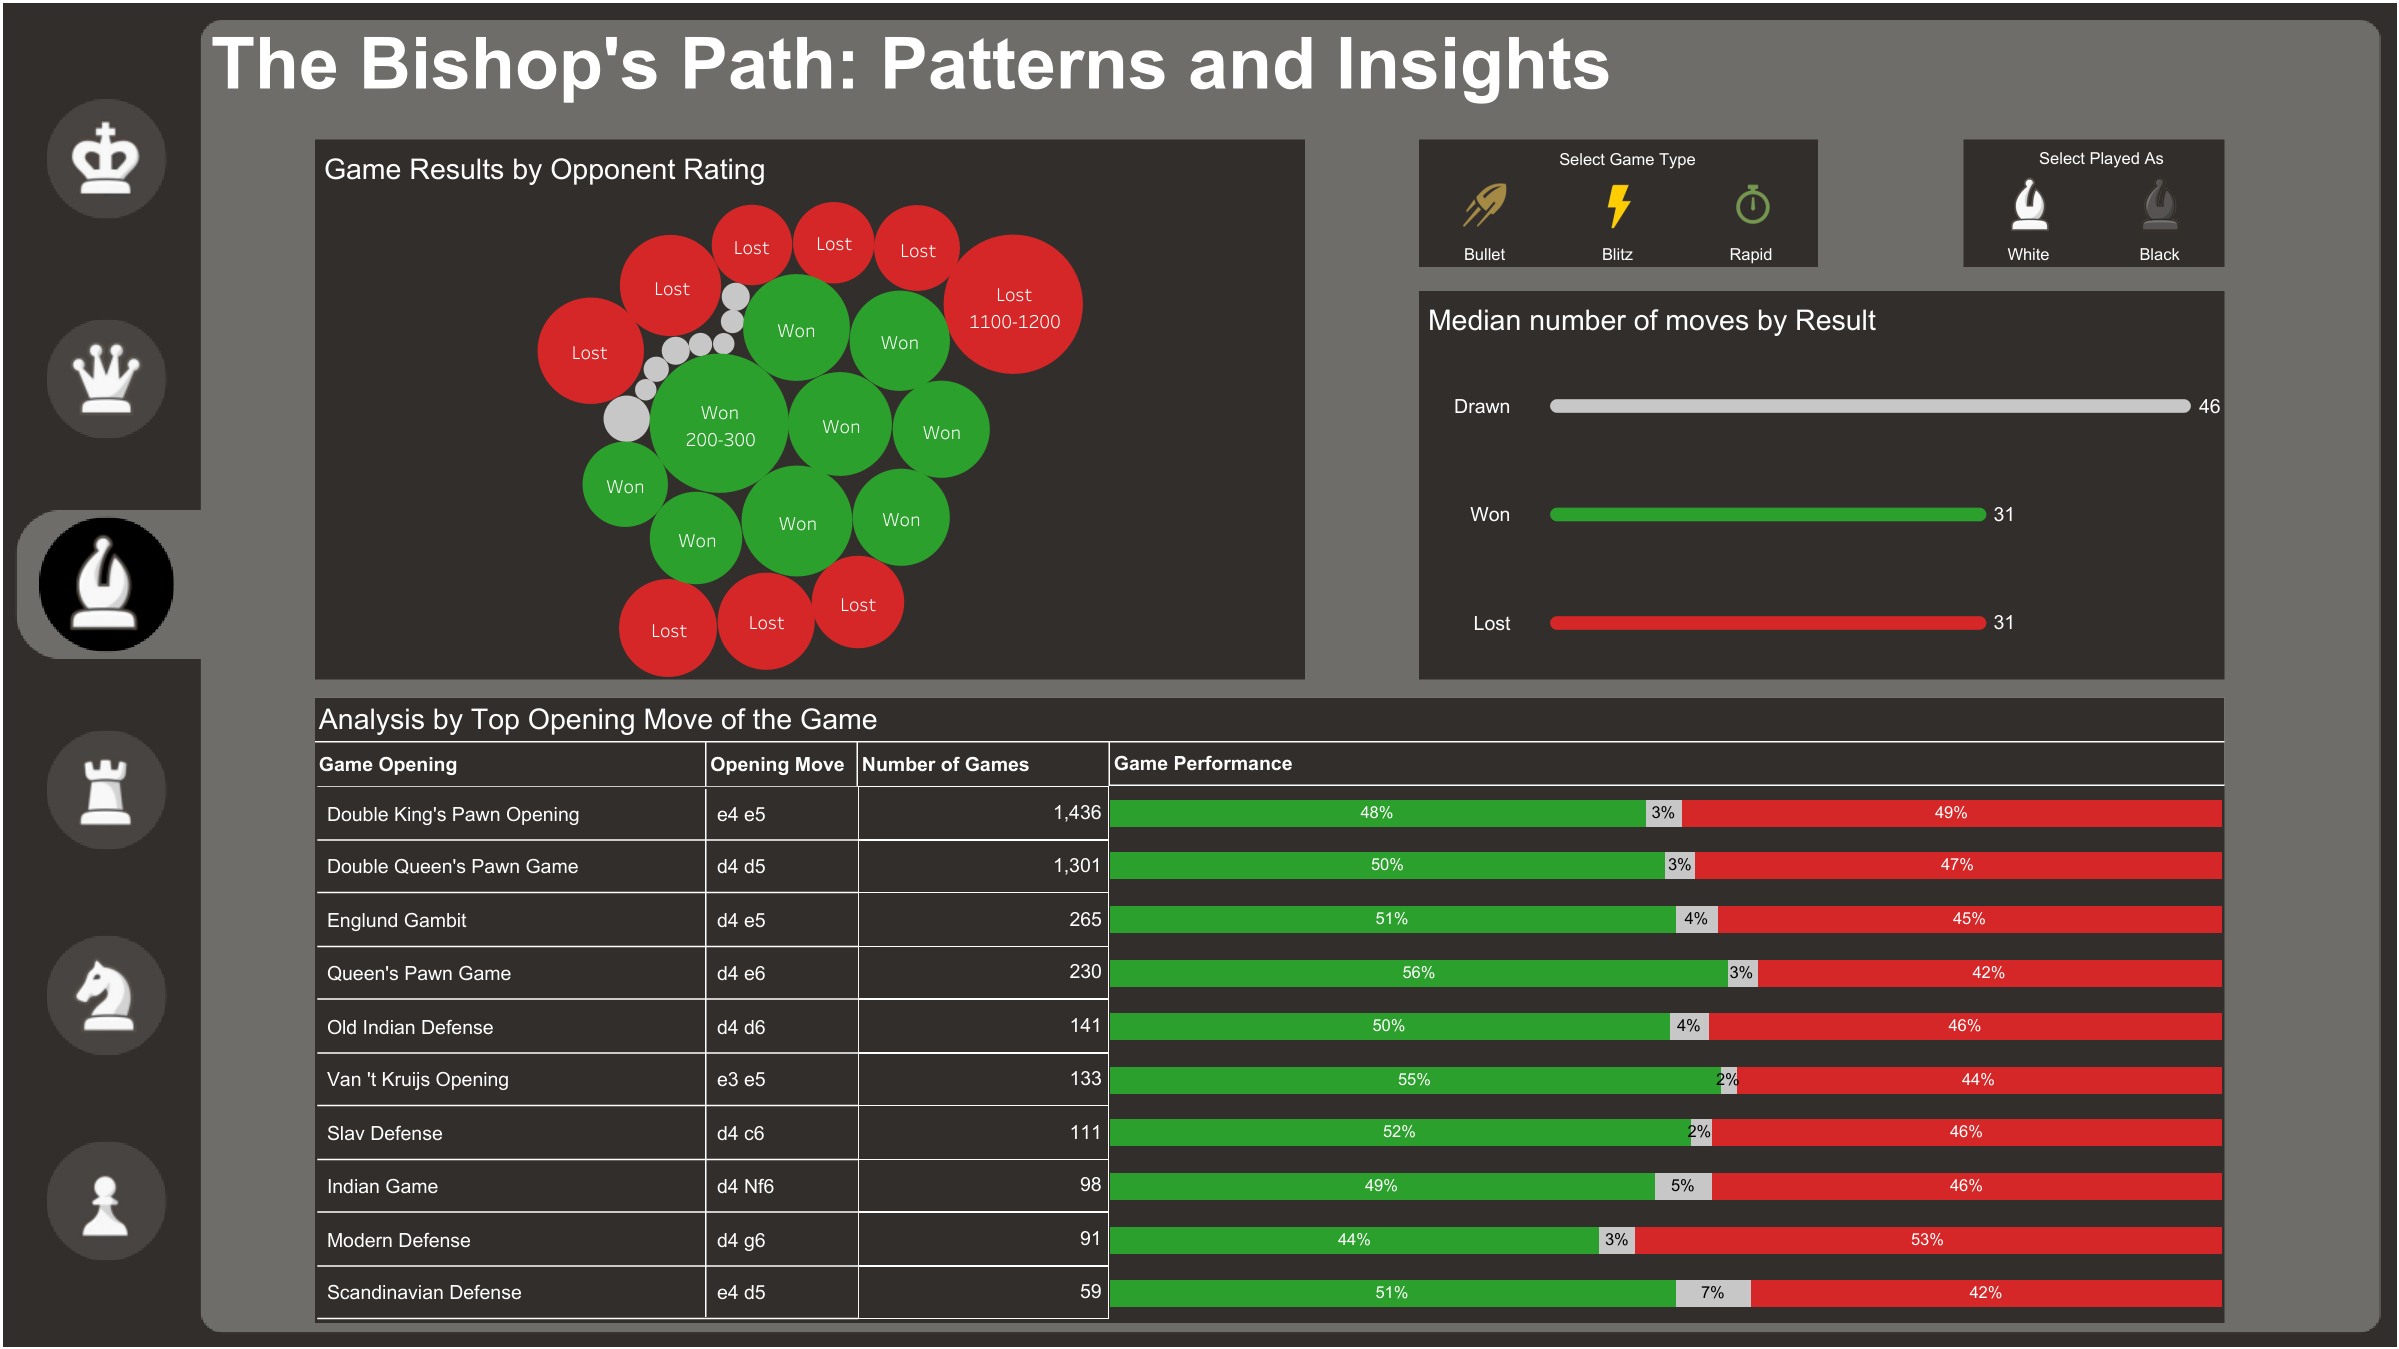

The dashboard page shown, as its layout file describes it:
{"tool":"tableau","page":{"name":"Bishop","canvas":[1600,900],"ordinal":0},"visuals":[{"type":"image","param":"Image/Nav - 1 (3).png","box":[2,2,1596,896]},{"type":"text","box":[138,8,973,68]},{"type":"dashboard-object","box":[41,76,60,60]},{"type":"text","box":[1351,90,100,30]},{"type":"text","box":[1035,91,100,30]},{"type":"worksheet","title":"Results by Opp Rating","mark":"Bar","cols":["Calculation_5530631486669508630"],"box":[210,93,660,360]},{"type":"worksheet","title":"Game Type Filter - Bishop","mark":"Shape","cols":["Game_Type"],"box":[946,93,266,85]},{"type":"blank","box":[1212,93,97,85]},{"type":"worksheet","title":"Played As Filter - Bishop","mark":"Shape","cols":["Played_as"],"box":[1309,93,174,85]},{"type":"worksheet","title":"Median moves per result","mark":"Line","rows":["Result"],"box":[946,194,537,259]},{"type":"dashboard-object","box":[41,222,60,60]},{"type":"image","param":"Image/Bishop_W.png","box":[33,351,75,75]},{"type":"image","param":"Image/Bishop Text.png","box":[1104,410,420,414]},{"type":"text","box":[210,465,1273,30]},{"type":"text","box":[210,494,261,30]},{"type":"text","box":[471,494,101,30]},{"type":"text","box":[572,494,168,30]},{"type":"text","box":[740,494,743,30]},{"type":"dashboard-object","box":[41,496,60,60]},{"type":"worksheet","title":"Game Openings 1","mark":"Automatic","rows":["Calculation_5530631486678900763","Move_1"],"box":[210,524,530,358]},{"type":"worksheet","title":"Game Openings 2","mark":"Automatic","rows":["Calculation_5530631486678900763"],"box":[740,524,743,358]},{"type":"dashboard-object","box":[41,633,60,60]},{"type":"dashboard-object","box":[41,770,60,60]},{"type":"dashboard-object","box":[1506,800,79,86]}]}

Visuals, with their boxes in screenshot pixels (x1, y1, x2, y2), scaled from the page's 1600x900 canvas onto the 2399x1349 screenshot:
image: (x1=3, y1=3, x2=2396, y2=1346)
text: (x1=207, y1=12, x2=1666, y2=114)
dashboard-object: (x1=61, y1=114, x2=151, y2=204)
text: (x1=2026, y1=135, x2=2176, y2=180)
text: (x1=1552, y1=136, x2=1702, y2=181)
"Results by Opp Rating" worksheet (Bar marks): (x1=315, y1=139, x2=1304, y2=679)
"Game Type Filter - Bishop" worksheet (Shape marks): (x1=1418, y1=139, x2=1817, y2=267)
blank: (x1=1817, y1=139, x2=1963, y2=267)
"Played As Filter - Bishop" worksheet (Shape marks): (x1=1963, y1=139, x2=2224, y2=267)
"Median moves per result" worksheet (Line marks): (x1=1418, y1=291, x2=2224, y2=679)
dashboard-object: (x1=61, y1=333, x2=151, y2=423)
image: (x1=49, y1=526, x2=162, y2=639)
image: (x1=1655, y1=615, x2=2285, y2=1235)
text: (x1=315, y1=697, x2=2224, y2=742)
text: (x1=315, y1=740, x2=706, y2=785)
text: (x1=706, y1=740, x2=858, y2=785)
text: (x1=858, y1=740, x2=1110, y2=785)
text: (x1=1110, y1=740, x2=2224, y2=785)
dashboard-object: (x1=61, y1=743, x2=151, y2=833)
"Game Openings 1" worksheet: (x1=315, y1=785, x2=1110, y2=1322)
"Game Openings 2" worksheet: (x1=1110, y1=785, x2=2224, y2=1322)
dashboard-object: (x1=61, y1=949, x2=151, y2=1039)
dashboard-object: (x1=61, y1=1154, x2=151, y2=1244)
dashboard-object: (x1=2258, y1=1199, x2=2377, y2=1328)
